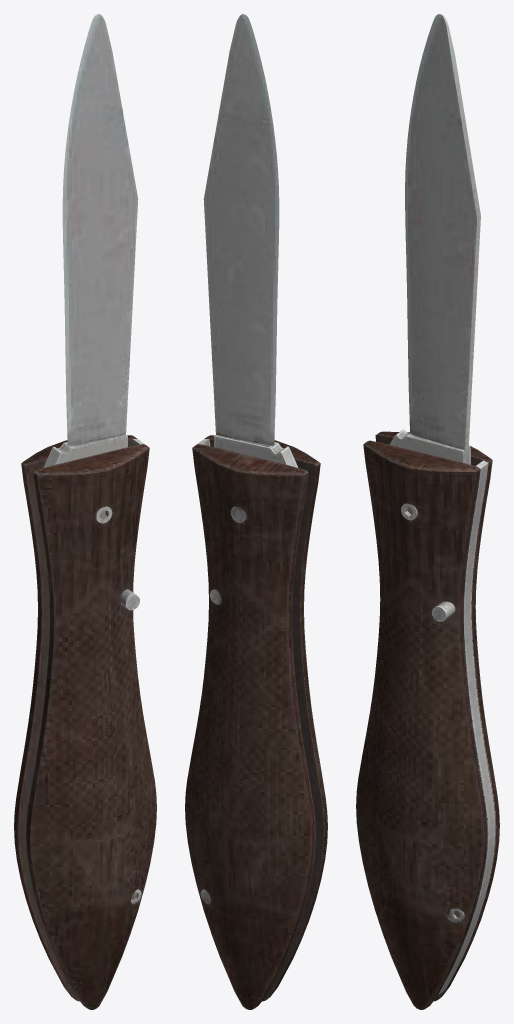
The model's file is natural-knife-quiet.glb.
The picture shows the model from 3 angles, left to right: view 1: azimuth 30°, elevation 25°; view 2: azimuth 150°, elevation 25°; view 3: azimuth 330°, elevation 25°; orthographic projection.
Parts seen in each view (by area): view 1: natural-knife-quiet runtime mesh; view 2: natural-knife-quiet runtime mesh; view 3: natural-knife-quiet runtime mesh.
Part boxes in pixels (x1,y1,x2,y2): natural-knife-quiet runtime mesh: [14, 14, 156, 1009]; natural-knife-quiet runtime mesh: [185, 14, 327, 1009]; natural-knife-quiet runtime mesh: [356, 14, 499, 1009].
Size of the model in its own units: 0.0431 by 0.32 by 0.0241.
1 material, 1 textured.
